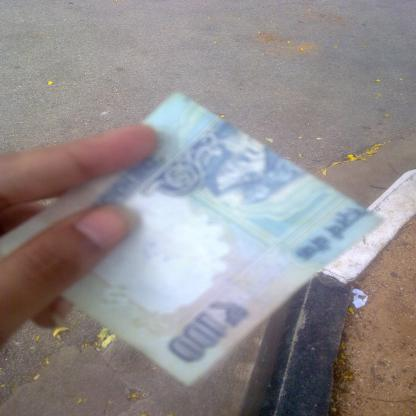Old100Back: (0, 90, 388, 388)
